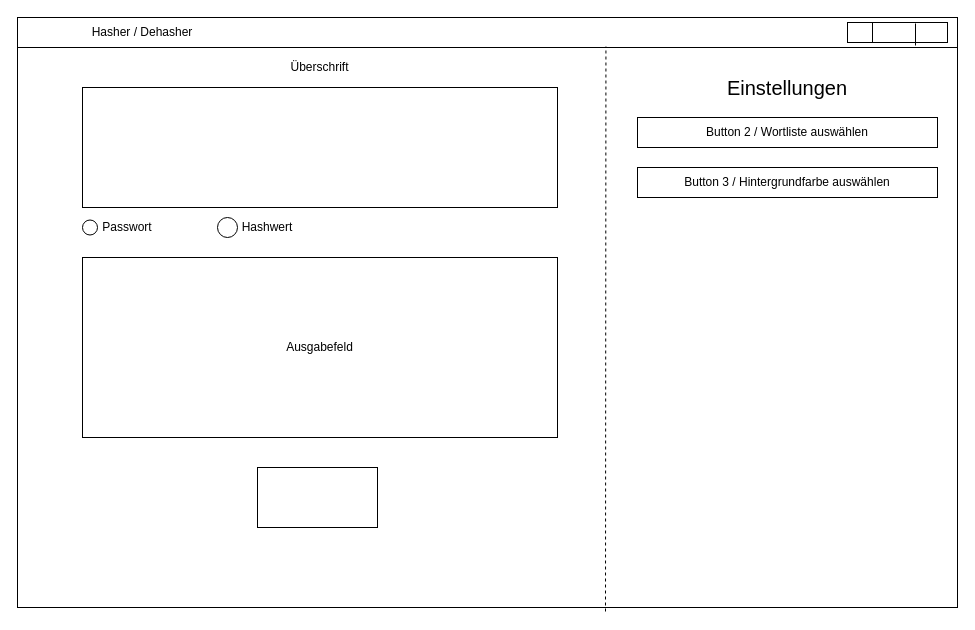
The diagram is 975 pixels wide and 630 high, and some of its shapes have lost their labels. The centre of each missing label's shape, as x and y in pixels:
"Button 1 Hashern / oder dehashen" goes at (x=317, y=497).
"Eingabefeld" goes at (x=320, y=147).
